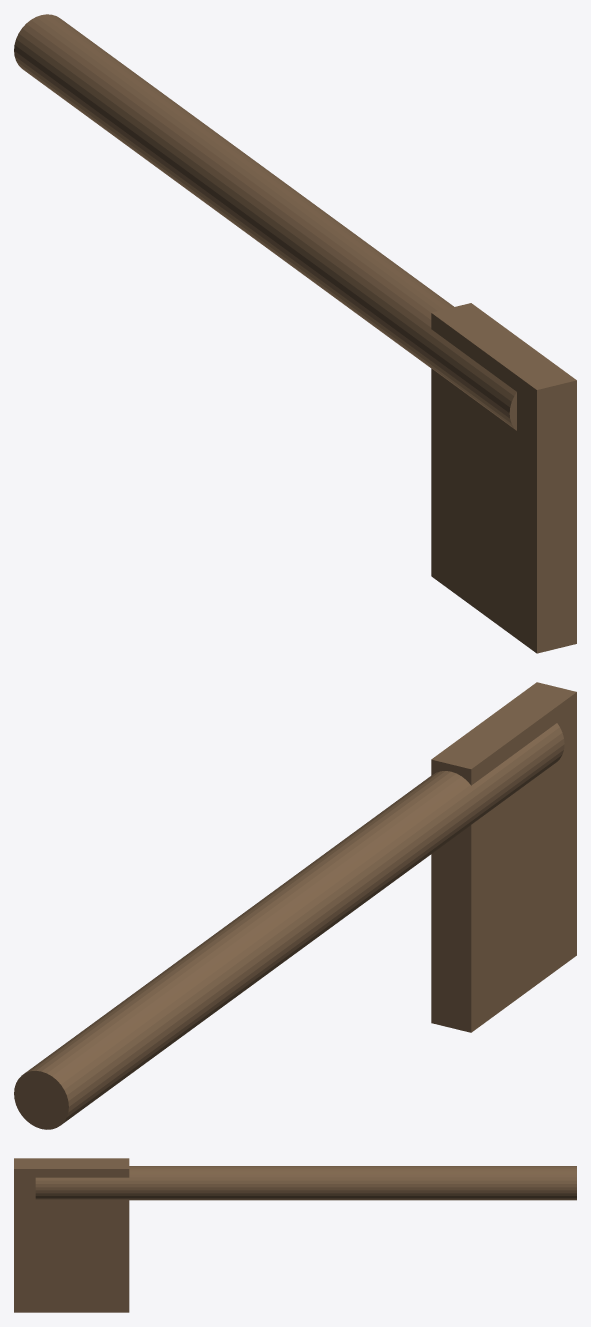
The model's file is prop_kapak.obj.
3 renders of one model, top to bottom at view 1: azimuth 30°, elevation 25°; view 2: azimuth 150°, elevation 25°; view 3: azimuth 270°, elevation 25°, orthographic. The views are drawn at different scales.
Parts seen in each view (by area): view 1: prop_kapak; view 2: prop_kapak; view 3: prop_kapak.
Part boxes in pixels (bbox=[...]): prop_kapak: bbox=[14, 14, 576, 653]; prop_kapak: bbox=[14, 682, 576, 1129]; prop_kapak: bbox=[14, 1158, 576, 1312].
Size of the model in its own units: 0.048 by 0.22 by 0.78.
